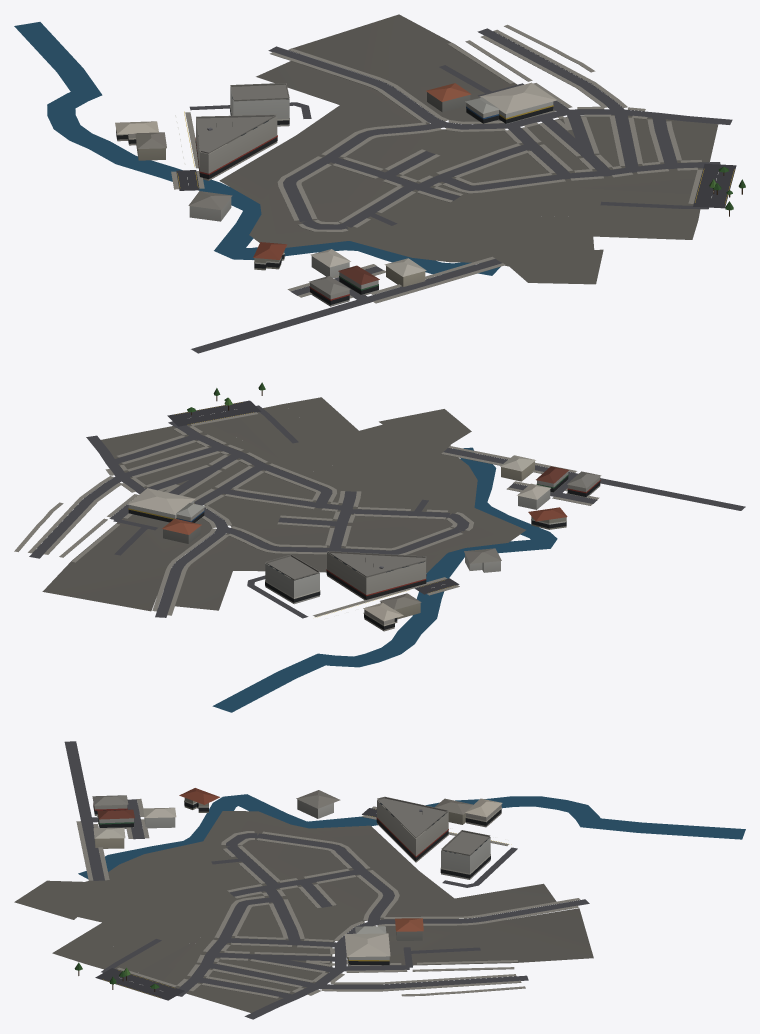
3 views of the same model, one above another, from view 1: azimuth 30°, elevation 25°; view 2: azimuth 150°, elevation 25°; view 3: azimuth 270°, elevation 25° (orthographic). The views are drawn at different scales.
Visible parts, largest first — view 1: Landuse__r-13c-4, Roads_Minor__r-13c-4, Sidewalks__r-13c-4-col, Buildings__r-13c-4-col, Water__r-13c-4, Lorega San Miguel-col, Roads_Major__r-13c-4, Windows__r-13c-4, Lorega San Miguel Barangay Hall-col; view 2: Landuse__r-13c-4, Roads_Minor__r-13c-4, Sidewalks__r-13c-4-col, Buildings__r-13c-4-col, Water__r-13c-4, Windows__r-13c-4, Lorega San Miguel-col, Roads_Major__r-13c-4; view 3: Landuse__r-13c-4, Roads_Minor__r-13c-4, Sidewalks__r-13c-4-col, Buildings__r-13c-4-col, Water__r-13c-4, Lorega San Miguel-col, Windows__r-13c-4, Roads_Major__r-13c-4.
Boxes of the visible parts, <box> form: Landuse__r-13c-4: <box>219,14,718,284</box>; Roads_Minor__r-13c-4: <box>189,28,732,353</box>; Sidewalks__r-13c-4-col: <box>171,24,702,303</box>; Buildings__r-13c-4-col: <box>115,83,471,306</box>; Water__r-13c-4: <box>14,22,500,275</box>; Lorega San Miguel-col: <box>479,82,557,123</box>; Roads_Major__r-13c-4: <box>176,164,736,208</box>; Windows__r-13c-4: <box>116,97,378,304</box>; Lorega San Miguel Barangay Hall-col: <box>465,97,499,123</box>; Landuse__r-13c-4: <box>42,397,525,611</box>; Roads_Minor__r-13c-4: <box>29,405,745,618</box>; Sidewalks__r-13c-4-col: <box>14,412,599,616</box>; Buildings__r-13c-4-col: <box>162,455,601,631</box>; Water__r-13c-4: <box>212,447,557,712</box>; Windows__r-13c-4: <box>265,474,600,629</box>; Lorega San Miguel-col: <box>128,488,195,522</box>; Roads_Major__r-13c-4: <box>167,400,459,594</box>; Landuse__r-13c-4: <box>14,811,593,1012</box>; Roads_Minor__r-13c-4: <box>64,741,589,1019</box>; Sidewalks__r-13c-4-col: <box>76,798,580,998</box>; Buildings__r-13c-4-col: <box>92,788,502,940</box>; Water__r-13c-4: <box>78,794,745,878</box>; Lorega San Miguel-col: <box>344,933,390,965</box>; Windows__r-13c-4: <box>93,800,501,878</box>; Roads_Major__r-13c-4: <box>95,808,376,1000</box>.
Bounding box in the file's own units: 367 × 17.32 × 408.
